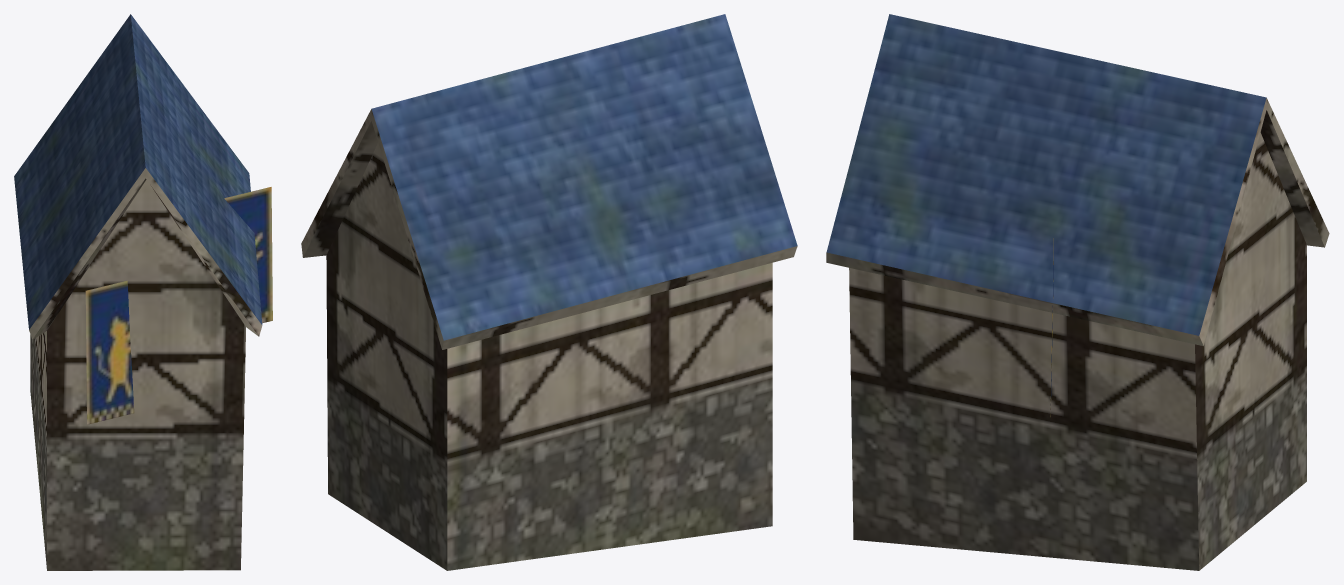
Rendered from house_10_card_lod2.glb.
3 renders of one model, left to right at view 1: azimuth 30°, elevation 25°; view 2: azimuth 150°, elevation 25°; view 3: azimuth 270°, elevation 25°, orthographic. The views are drawn at different scales.
Parts seen in each view (by area): view 1: house_10_game_card; view 2: house_10_game_card; view 3: house_10_game_card.
Boxes of the visible parts, box(x1,y1,x2,y2) form: house_10_game_card: box(14, 14, 272, 570); house_10_game_card: box(301, 14, 797, 570); house_10_game_card: box(826, 14, 1329, 570).
Bounding box in the file's own units: 7.18 × 8.64 × 8.2.
1 material, 1 textured.
